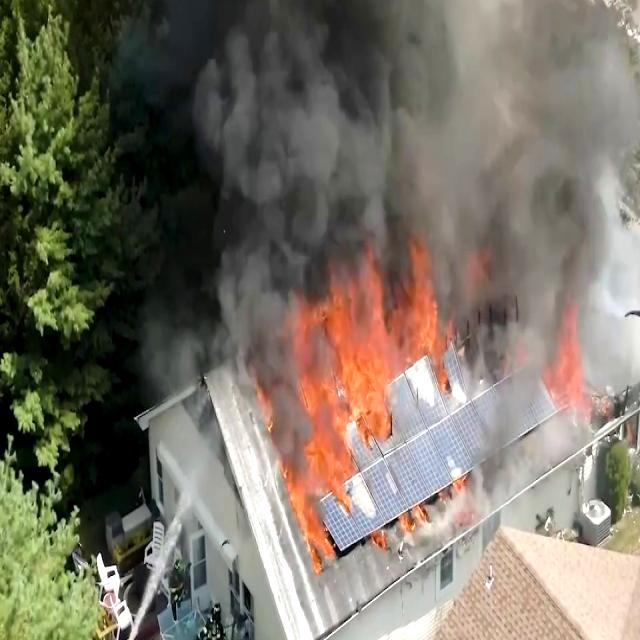fire: (280, 241, 454, 484)
smoke: (190, 0, 454, 194)
